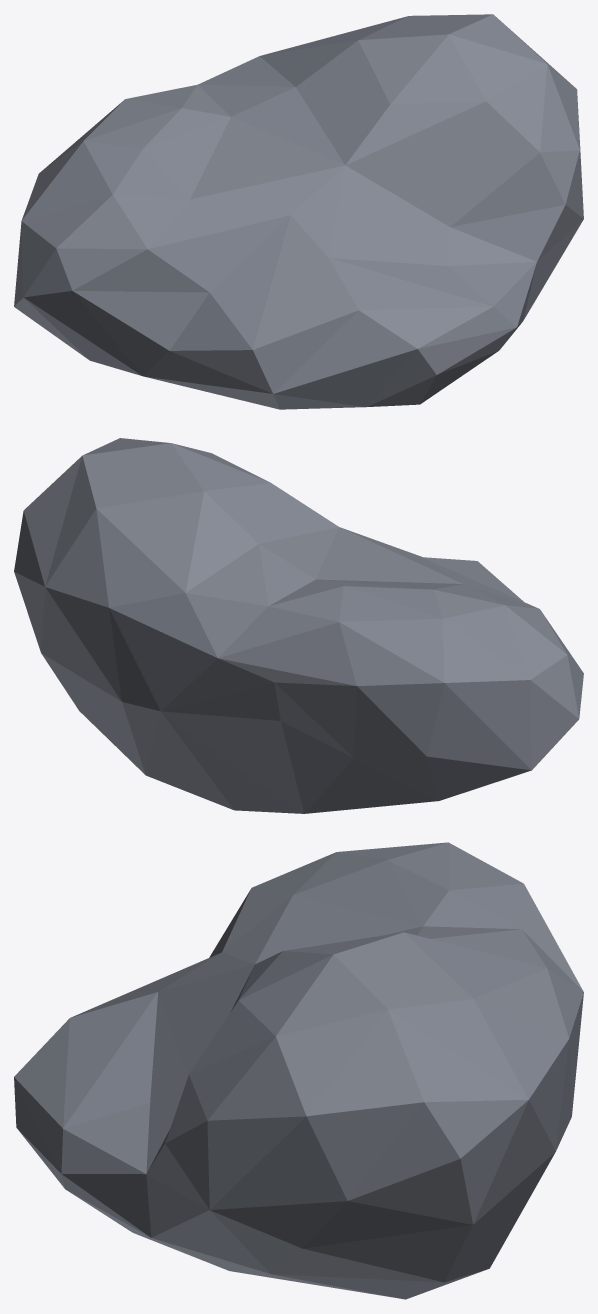
Rendered from mesh_rock_04.fbx.
3 renders of one model, top to bottom at view 1: azimuth 30°, elevation 25°; view 2: azimuth 150°, elevation 25°; view 3: azimuth 270°, elevation 25°, orthographic. The views are drawn at different scales.
Visible parts, largest first — view 1: mesh_rock_04; view 2: mesh_rock_04; view 3: mesh_rock_04.
Boxes of the visible parts, box(x1,y1,x2,y2) form: mesh_rock_04: box(14, 14, 583, 409); mesh_rock_04: box(14, 438, 583, 813); mesh_rock_04: box(14, 842, 583, 1299).
Bounding box in the file's own units: 0.2589 × 0.1341 × 0.1961.
